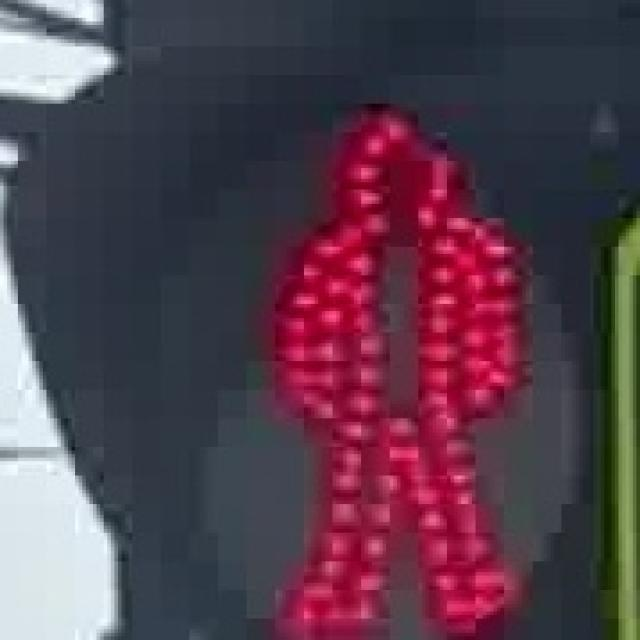red-crossing: (264, 79, 522, 636)
